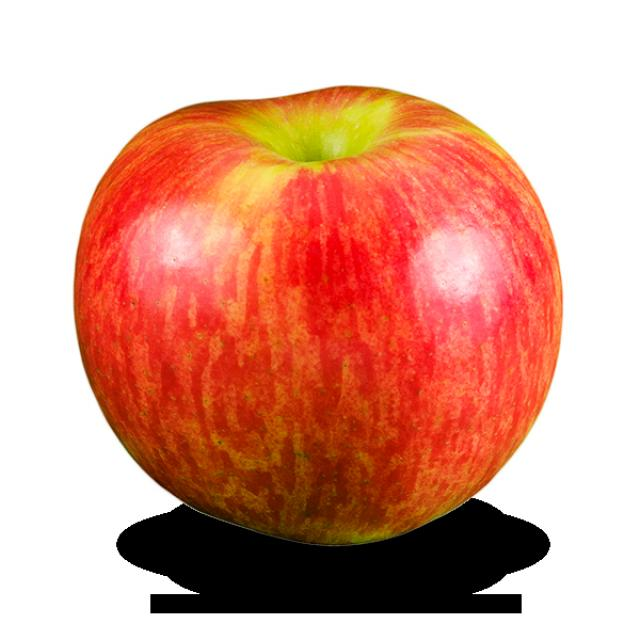apple: (73, 83, 561, 552)
